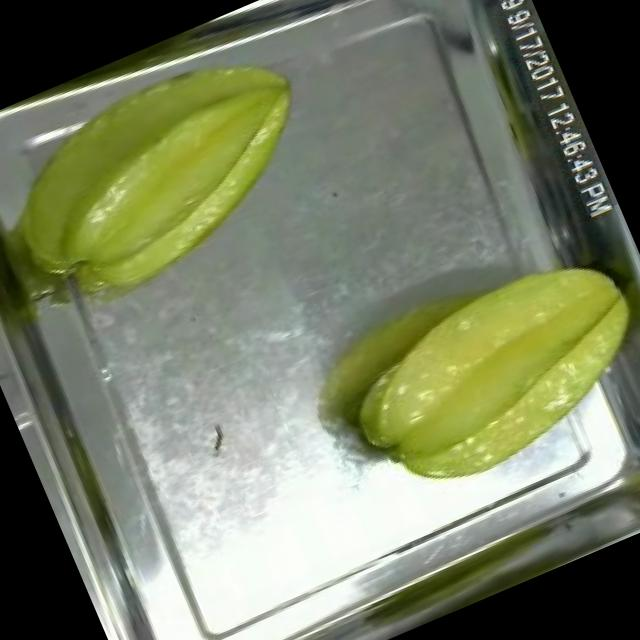fruit: (0, 11, 357, 335), (310, 215, 640, 523)
